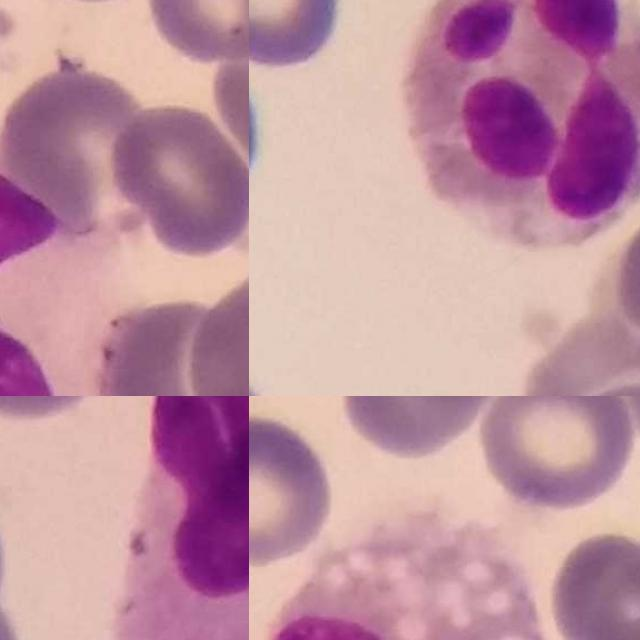Eosinophil: (401, 0, 640, 250)
Monocyte: (257, 522, 552, 640), (120, 396, 249, 640), (0, 143, 122, 396)
